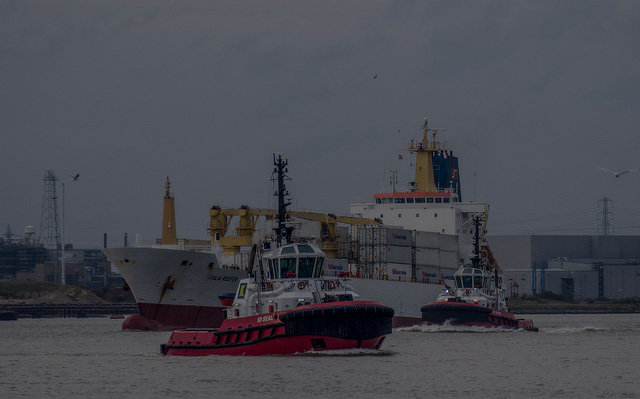container_ship: (98, 114, 504, 323)
tug_boat: (164, 158, 396, 356), (423, 210, 546, 338)
